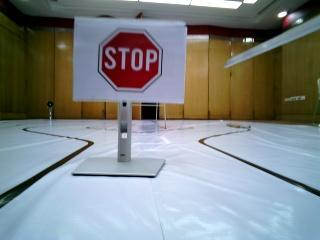stop: (80, 24, 171, 97)
